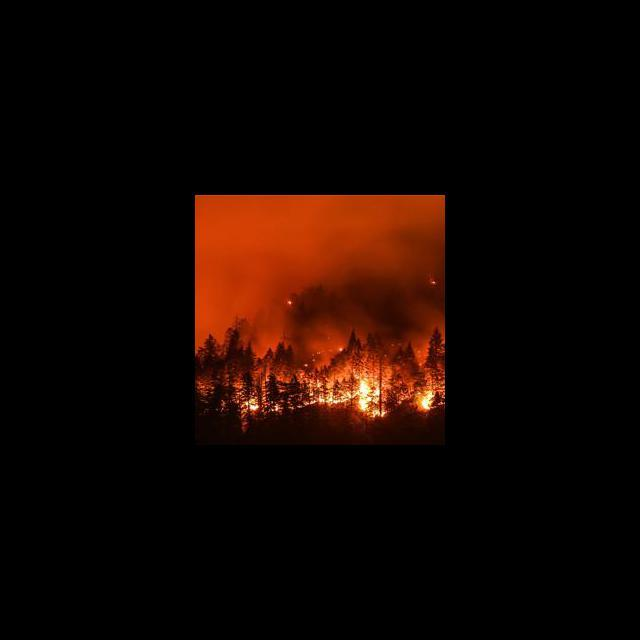Fire: (205, 359, 444, 422)
